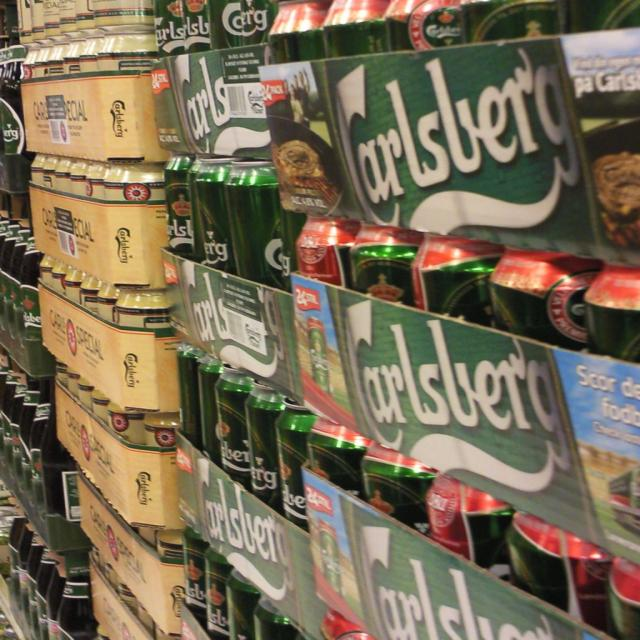carlsberg: (327, 42, 591, 238), (332, 297, 584, 499), (188, 457, 312, 604)
